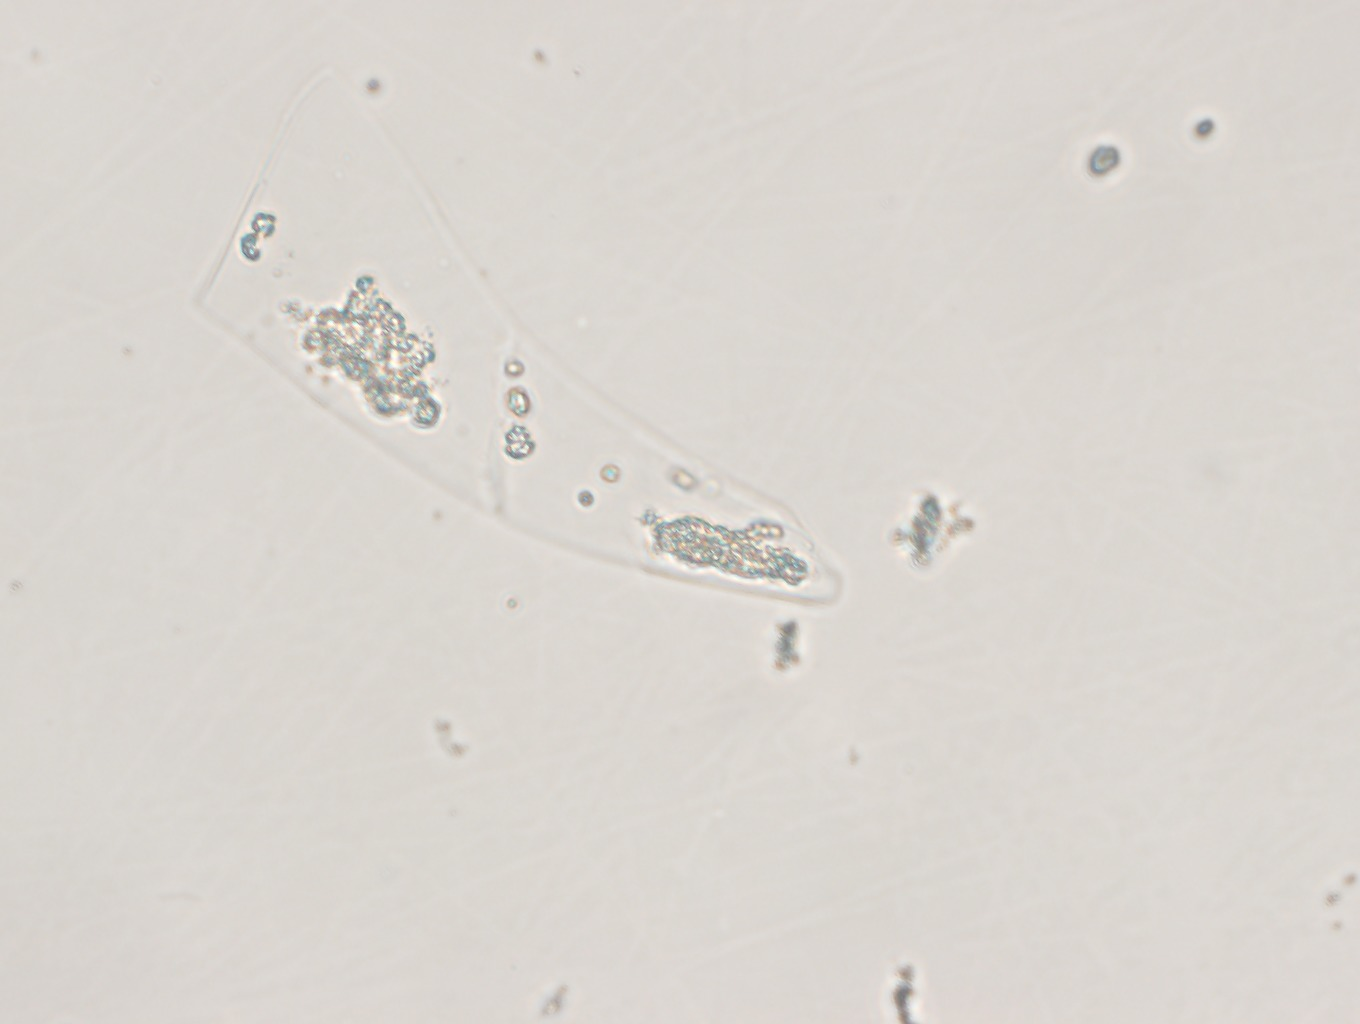helicotheca: (185, 74, 859, 612)
